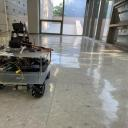cart: (0, 48, 53, 98)
